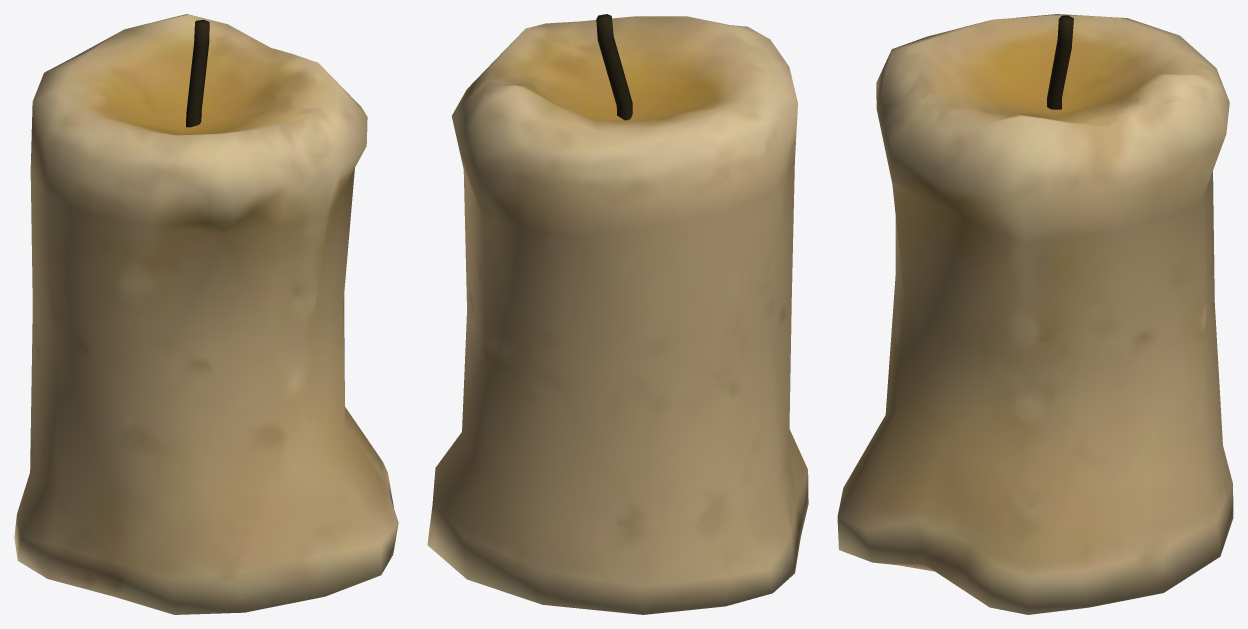
Rendered from candlemedium_lit.glb.
The picture shows the model from 3 angles, left to right: view 1: azimuth 30°, elevation 25°; view 2: azimuth 150°, elevation 25°; view 3: azimuth 270°, elevation 25°; orthographic projection. The views are drawn at different scales.
Parts seen in each view (by area): view 1: candleMedium_lit; view 2: candleMedium_lit; view 3: candleMedium_lit.
Boxes of the visible parts, x1,y1,x2,y2 form: candleMedium_lit: [14, 14, 398, 614]; candleMedium_lit: [427, 14, 808, 614]; candleMedium_lit: [837, 14, 1233, 614].
Size of the model in its own units: 0.1445 by 0.2078 by 0.1436.
Materials: 1 (1 with a texture image).
